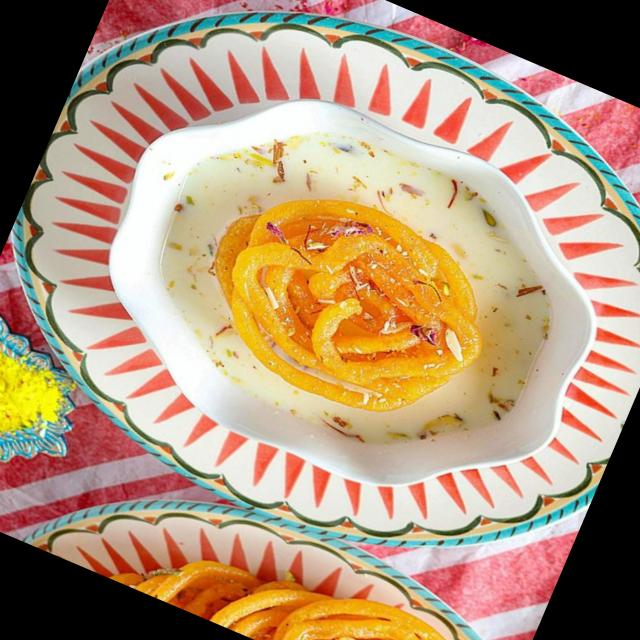jalebi: (182, 169, 486, 441), (41, 475, 518, 640)
